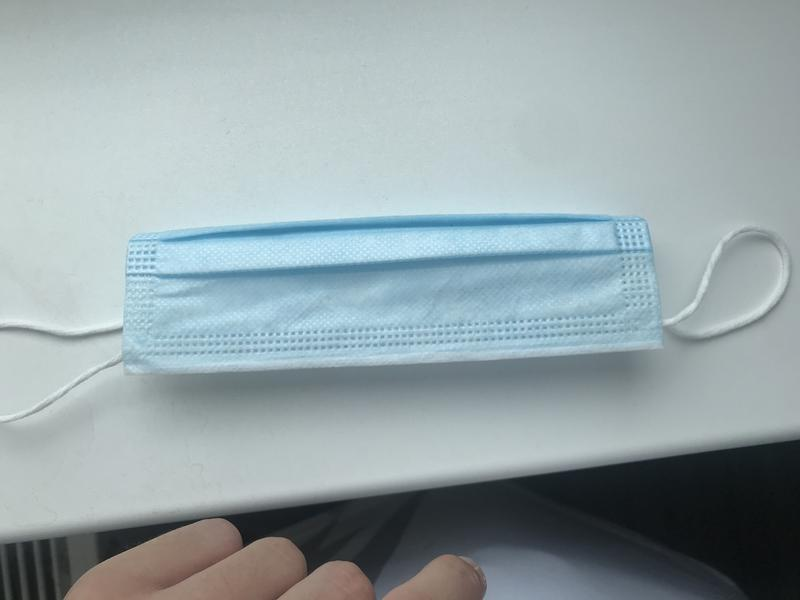medical_mask: (2, 210, 791, 425)
